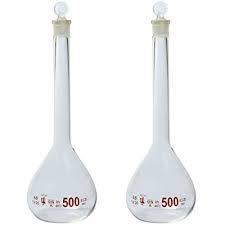Volumetric flask: (114, 14, 200, 219), (30, 4, 100, 218)
